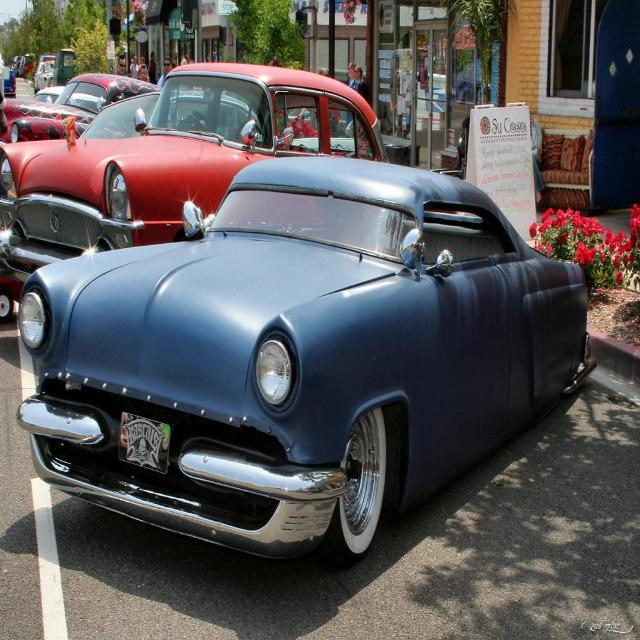car: (17, 98, 587, 580)
